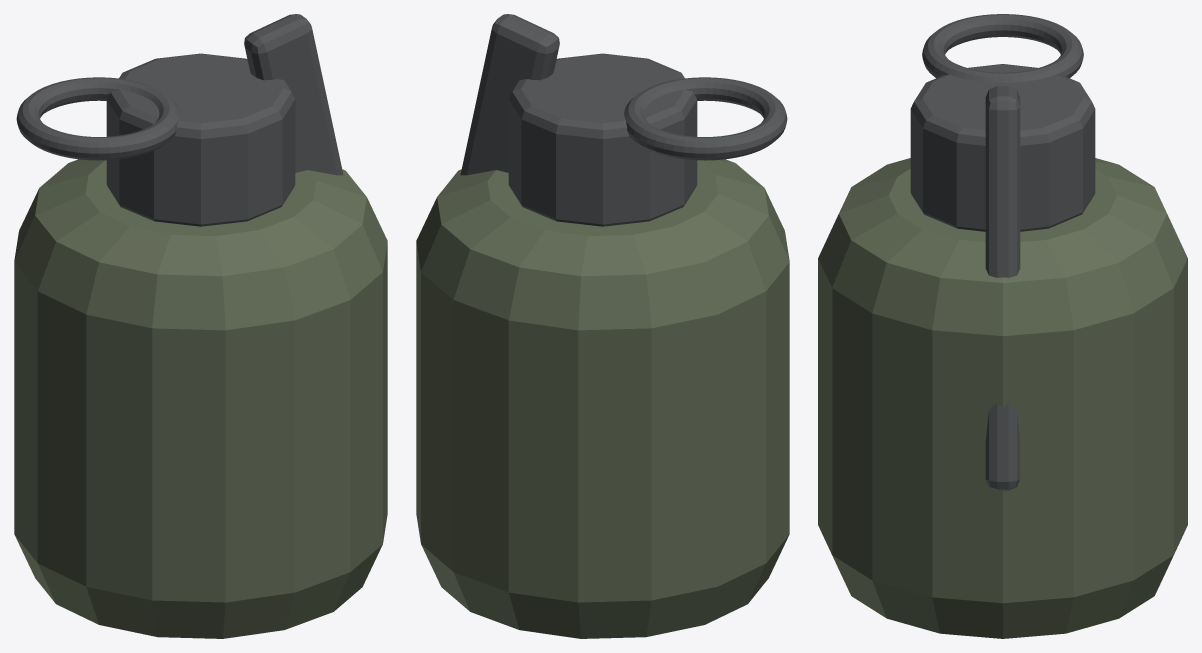
Rendered from grenade.glb.
3 views of the same model, side by side, from view 1: azimuth 30°, elevation 25°; view 2: azimuth 150°, elevation 25°; view 3: azimuth 270°, elevation 25° (orthographic).
Visible parts, largest first — view 1: grenade_body; view 2: grenade_body; view 3: grenade_body.
Boxes of the visible parts, left/top/right/bottom form: grenade_body: left=14, top=14, right=387, bottom=638; grenade_body: left=416, top=14, right=789, bottom=638; grenade_body: left=818, top=14, right=1187, bottom=638.
Size of the model in its own units: 0.0687 by 0.1026 by 0.064.
